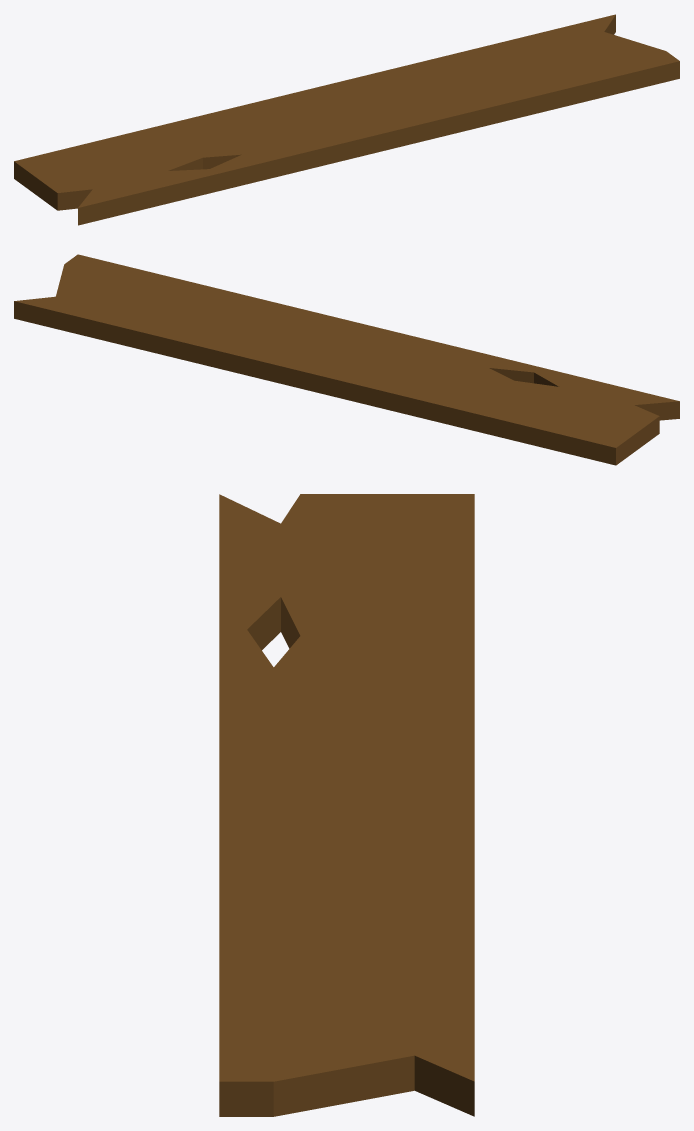
Rendered from prop_Tabla1_Low.fbx.
The picture shows the model from 3 angles, top to bottom: view 1: azimuth 30°, elevation 25°; view 2: azimuth 150°, elevation 25°; view 3: azimuth 270°, elevation 25°; orthographic projection. The views are drawn at different scales.
Visible parts, largest first — view 1: Tabla2_LowPoly; view 2: Tabla2_LowPoly; view 3: Tabla2_LowPoly.
Part boxes in pixels (left/top/right/bottom): Tabla2_LowPoly: left=14, top=14, right=679, bottom=225; Tabla2_LowPoly: left=14, top=254, right=679, bottom=465; Tabla2_LowPoly: left=219, top=494, right=474, bottom=1116.
Size of the model in its own units: 115 by 3.22 by 21.23.
